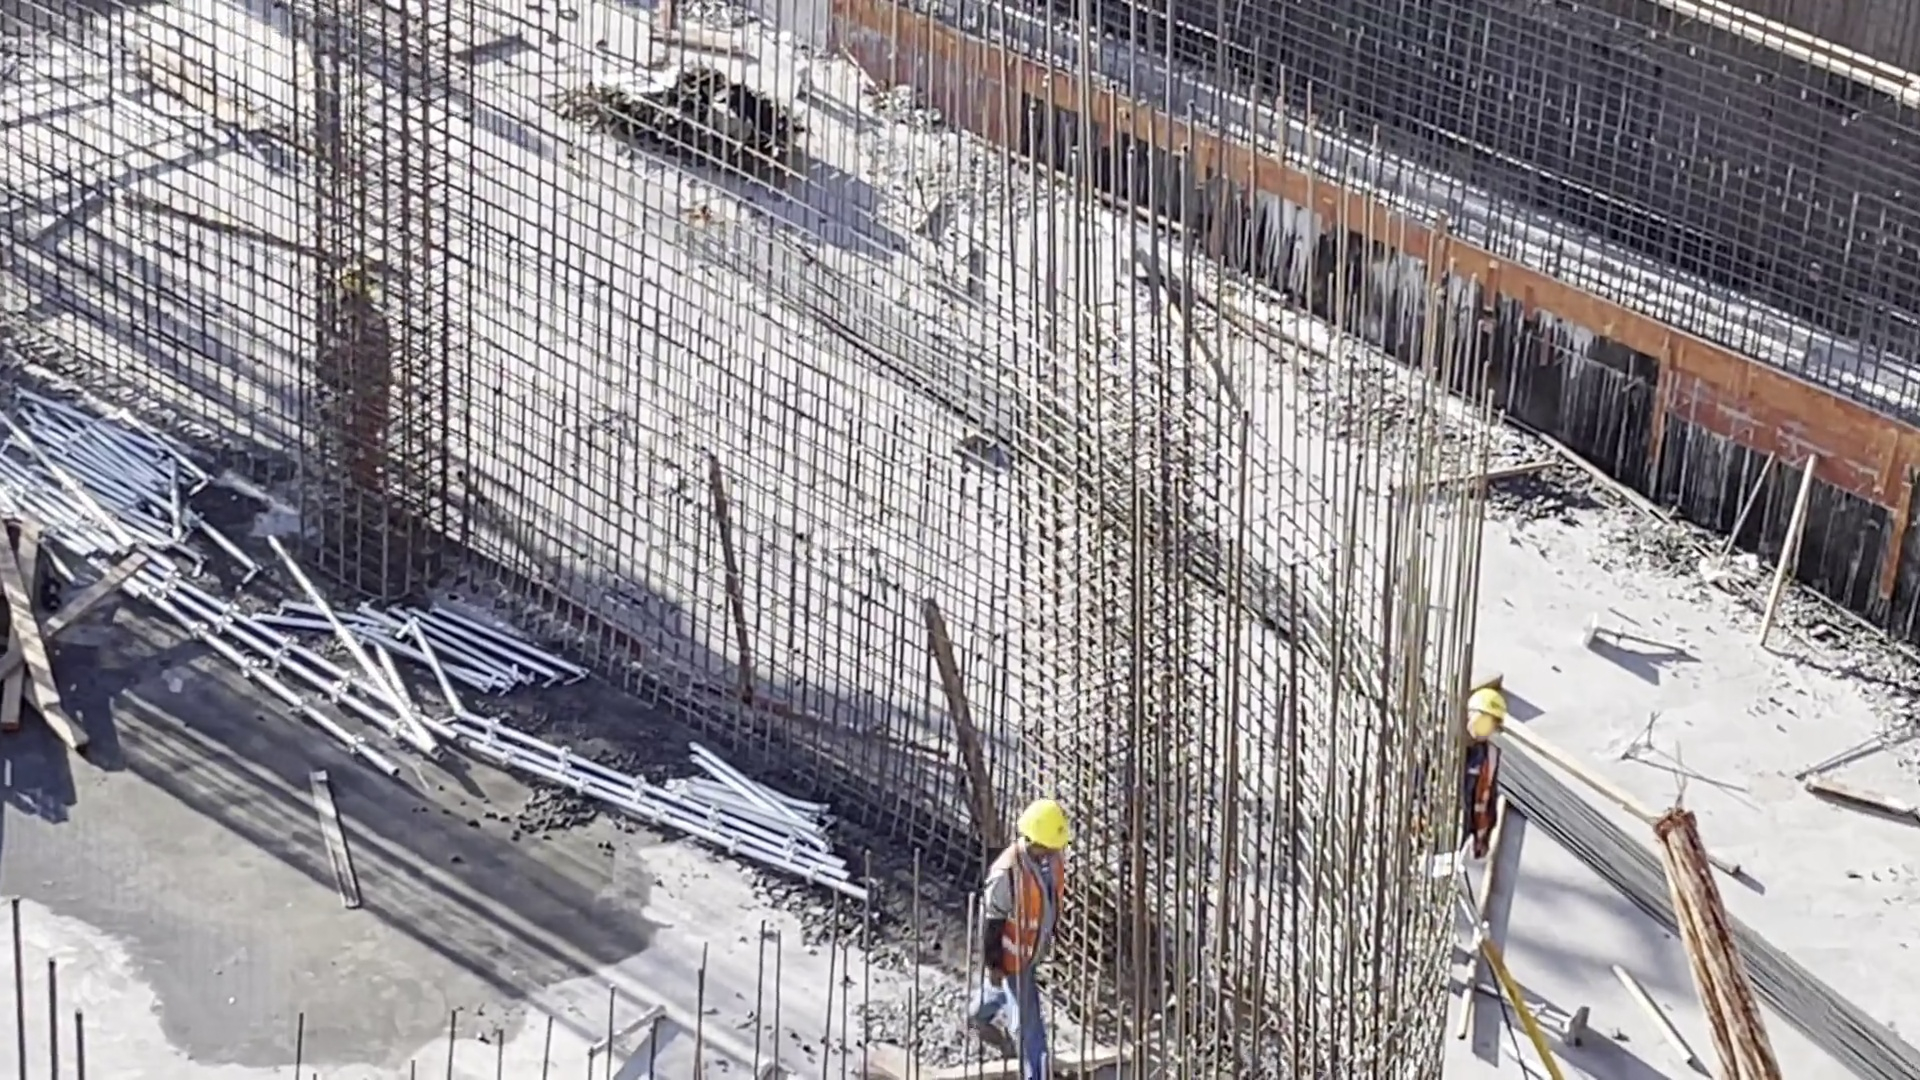helmet: (992, 791, 1089, 842), (1456, 686, 1526, 742), (330, 263, 370, 294)
person: (960, 793, 1089, 1080), (317, 256, 407, 527), (1419, 686, 1525, 898)
rebar: (1499, 770, 1905, 1080)
scaffold: (329, 580, 572, 761), (14, 390, 211, 584), (671, 761, 891, 904)
vest: (980, 845, 1071, 970), (1444, 745, 1509, 851), (334, 315, 399, 396)
wood: (1, 514, 76, 749)
